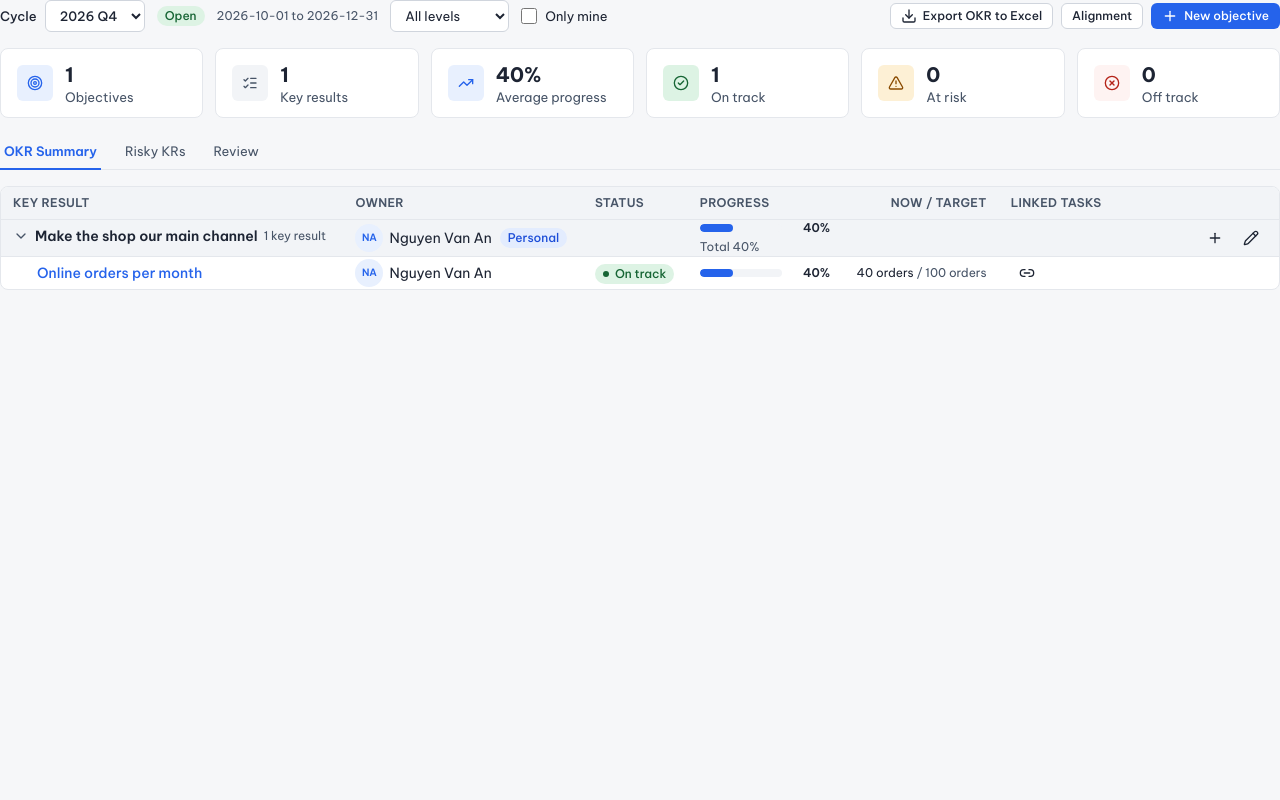
making an objective › shows why the server refused and stays open
expect the button "Make the shop our main channel 1 key result" is shown: met, box [13,226,326,246]
Click the button "New objective".
click(1216, 16)  # box [1151,3,1279,29]
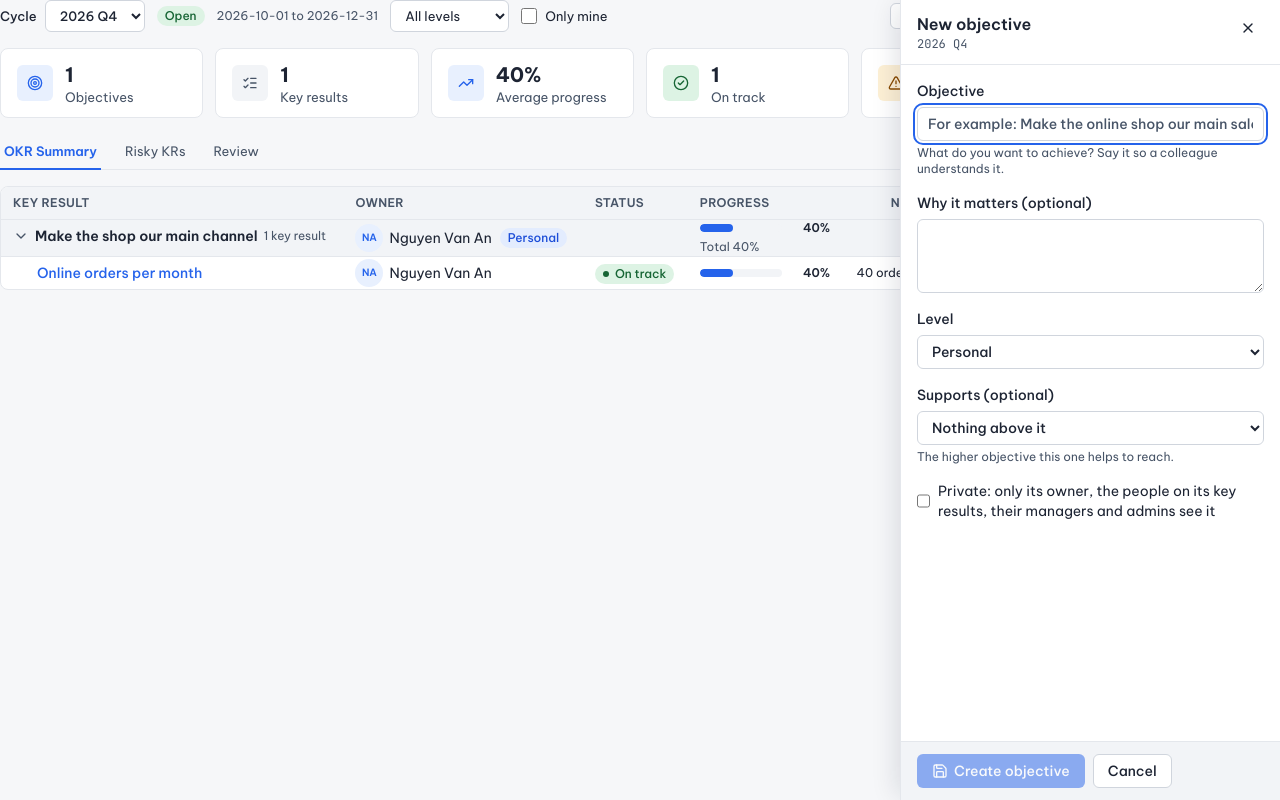
Type "Anything" into the field labelled "Objective".
click(1090, 124); type("Anything")  # box [917,107,1264,141]
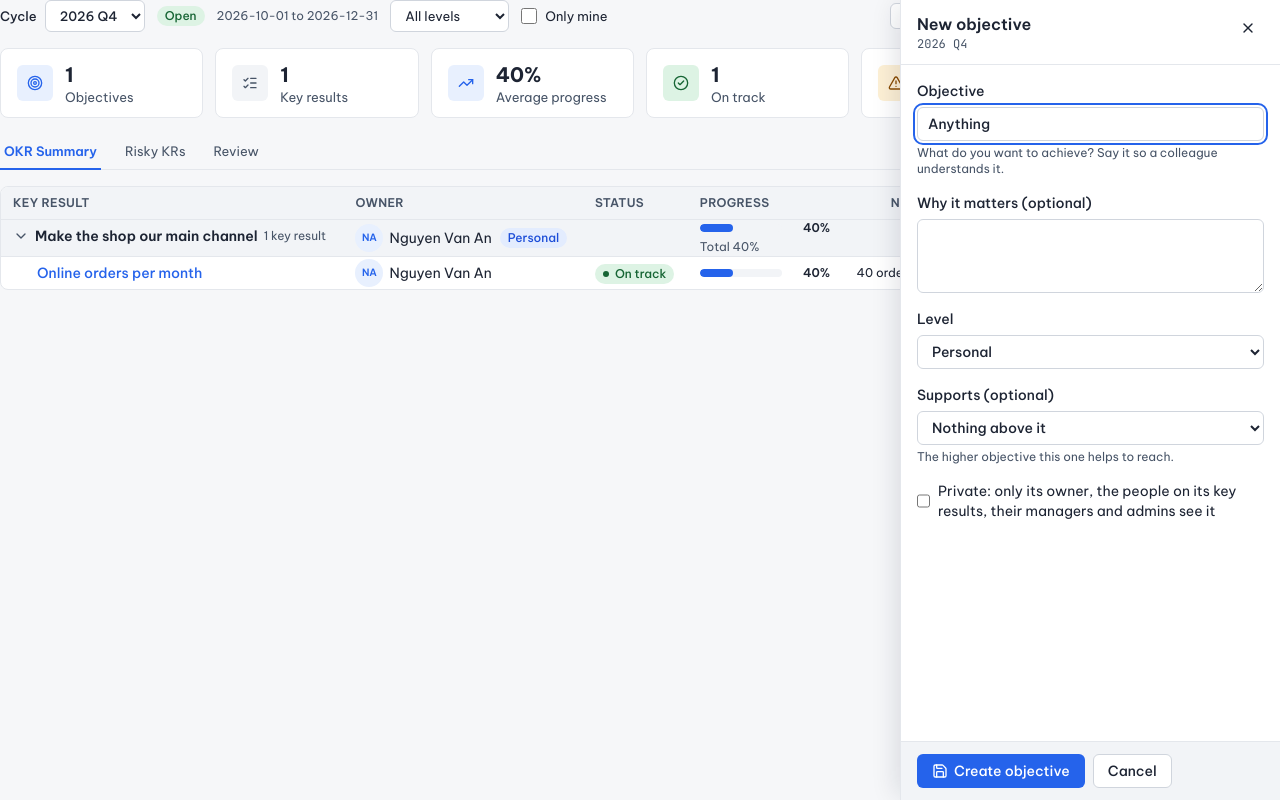
Click the button "Create objective".
click(1001, 771)  # box [917,754,1085,788]
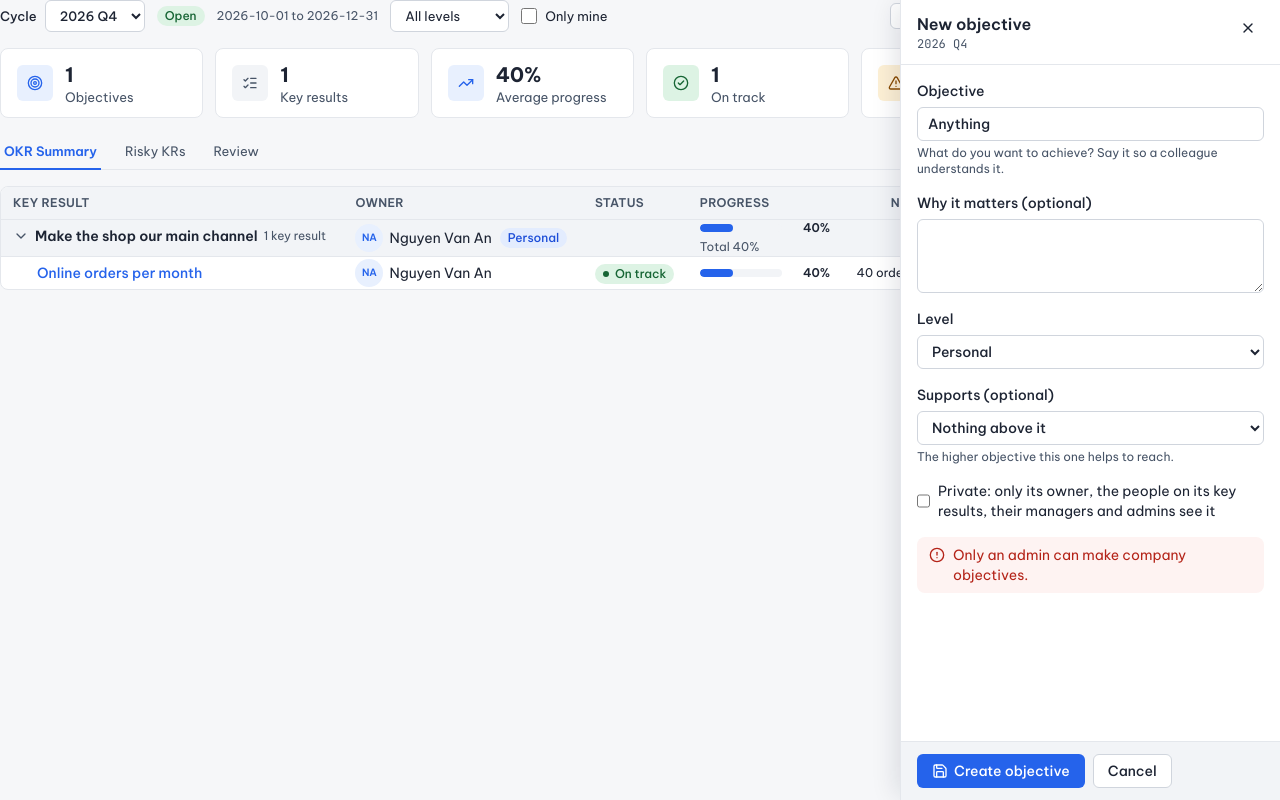
expect the button "Create objective" is shown: met, box [917,754,1085,788]
expect the message shows "Only an admin": met, box [953,546,1186,584]
